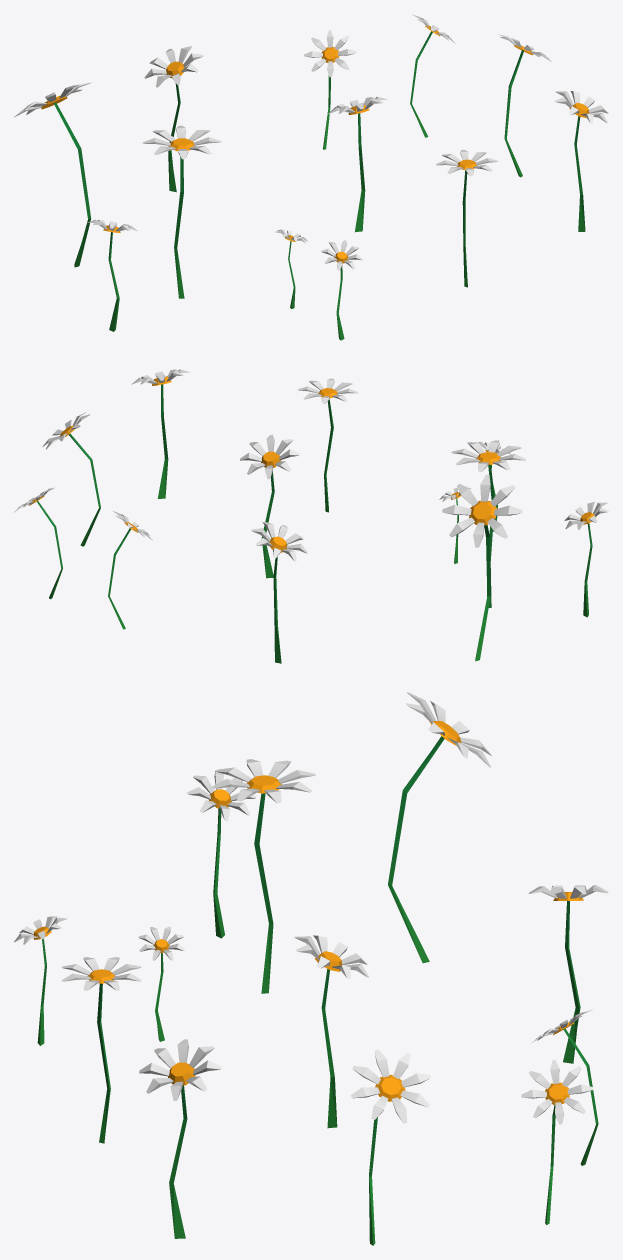
Rendered from flower_daisy.glb.
The picture shows the model from 3 angles, top to bottom: view 1: azimuth 30°, elevation 25°; view 2: azimuth 150°, elevation 25°; view 3: azimuth 270°, elevation 25°; orthographic projection. The views are drawn at different scales.
Visible parts, largest first — view 1: Flower 4_4_A; view 2: Flower 4_4_A; view 3: Flower 4_4_A.
Boxes of the visible parts, box(x1,y1,x2,y2) form: Flower 4_4_A: box(14, 14, 608, 340); Flower 4_4_A: box(14, 369, 608, 663); Flower 4_4_A: box(14, 692, 608, 1245).
Bounding box in the file's own units: 0.736 × 0.2551 × 0.5398.
1 material, 1 textured.
